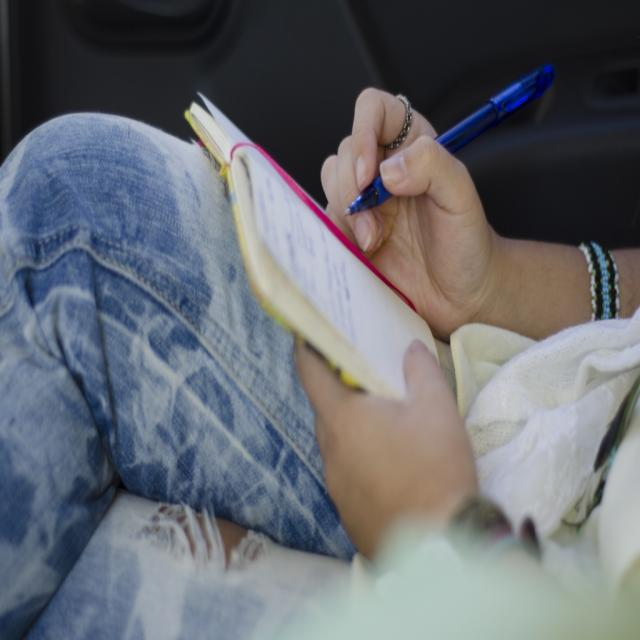pen: (341, 63, 561, 213)
